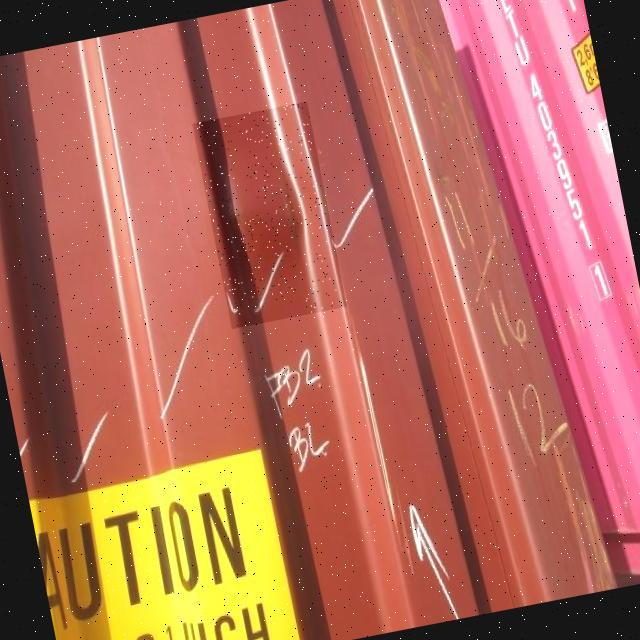Minor-Dent: (192, 101, 347, 329)
